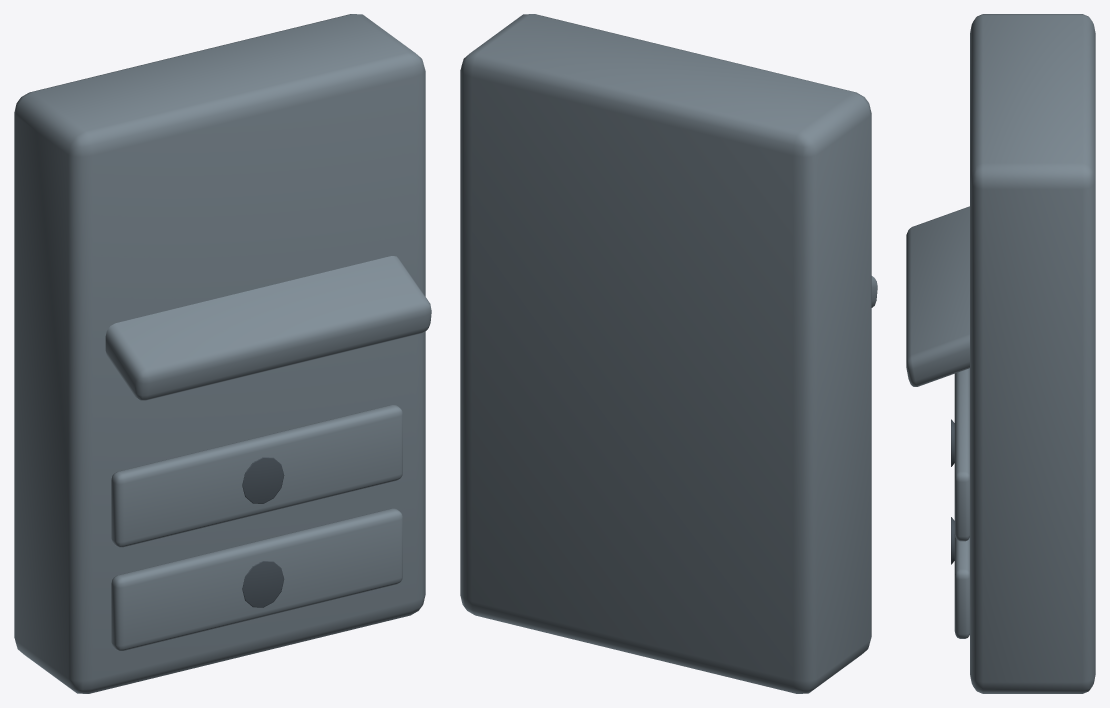
File: secretary-desk.glb
3 views of the same model, side by side, from view 1: azimuth 30°, elevation 25°; view 2: azimuth 150°, elevation 25°; view 3: azimuth 270°, elevation 25° (orthographic). The views are drawn at different scales.
Visible parts, largest first — view 1: secretary-desk; view 2: secretary-desk; view 3: secretary-desk.
Part boxes in pixels (bbox=[...]): secretary-desk: bbox=[14, 14, 431, 693]; secretary-desk: bbox=[460, 14, 877, 693]; secretary-desk: bbox=[906, 14, 1095, 693].
Bounding box in the file's own units: 0.98 × 1.48 × 0.48.
